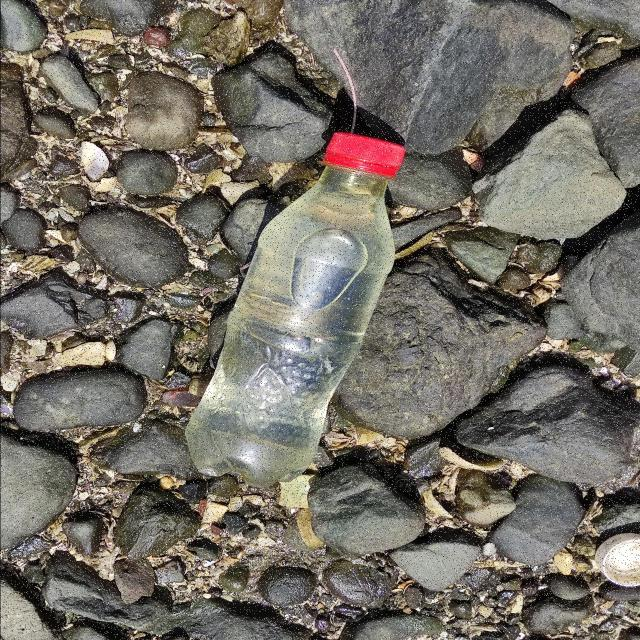plastic_waste: (185, 131, 403, 487), (595, 533, 640, 589)
